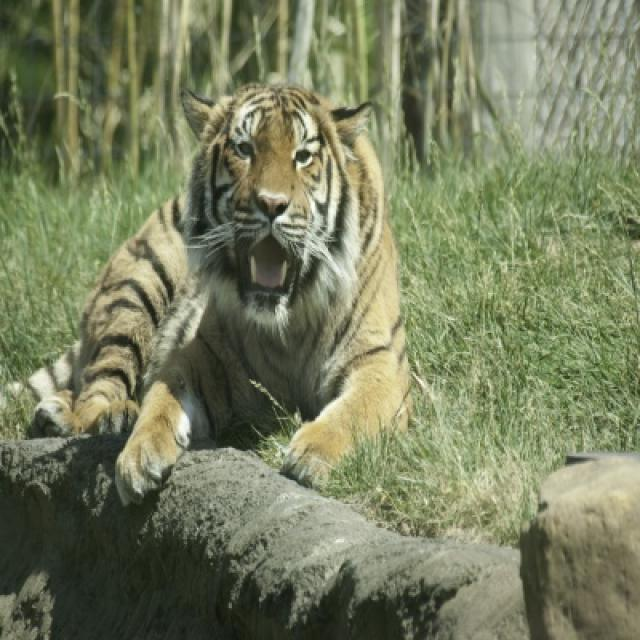Tiger: (0, 77, 413, 496)
